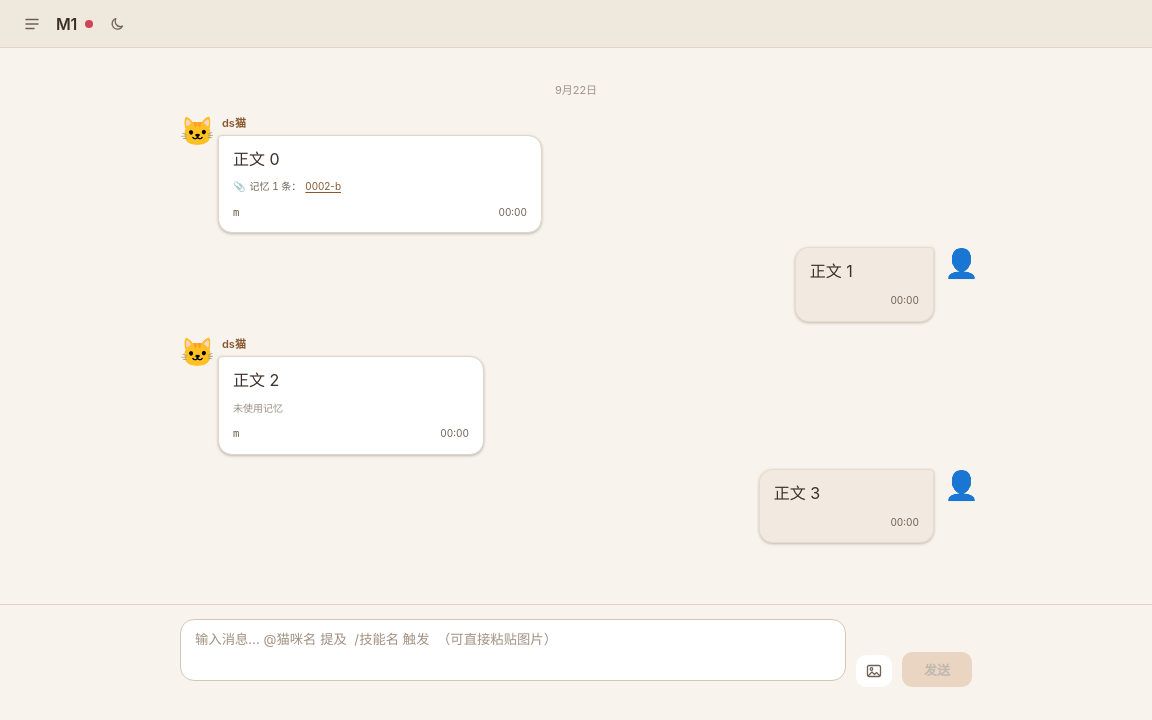
Test case: M1 记忆引用（回复下方「用了哪些记忆」） › 端到端（挂载级）：批量口返回的节 → 气泡 footer 出「📎 记忆 1 条」；点开 → 抽屉显示片段
Expected: the number of elements with class "msg-memory-refs" is 2, [233,178,341,194]; [233,402,283,414]
Expected: the element with class "msg-memory-refs" shows "记忆 1 条", [250,180,301,192]
// 点条目 → 抽屉（片段来自批量口，不再发请求）
Click the button with class "mem-link" at (323, 186), box [305,178,341,194]
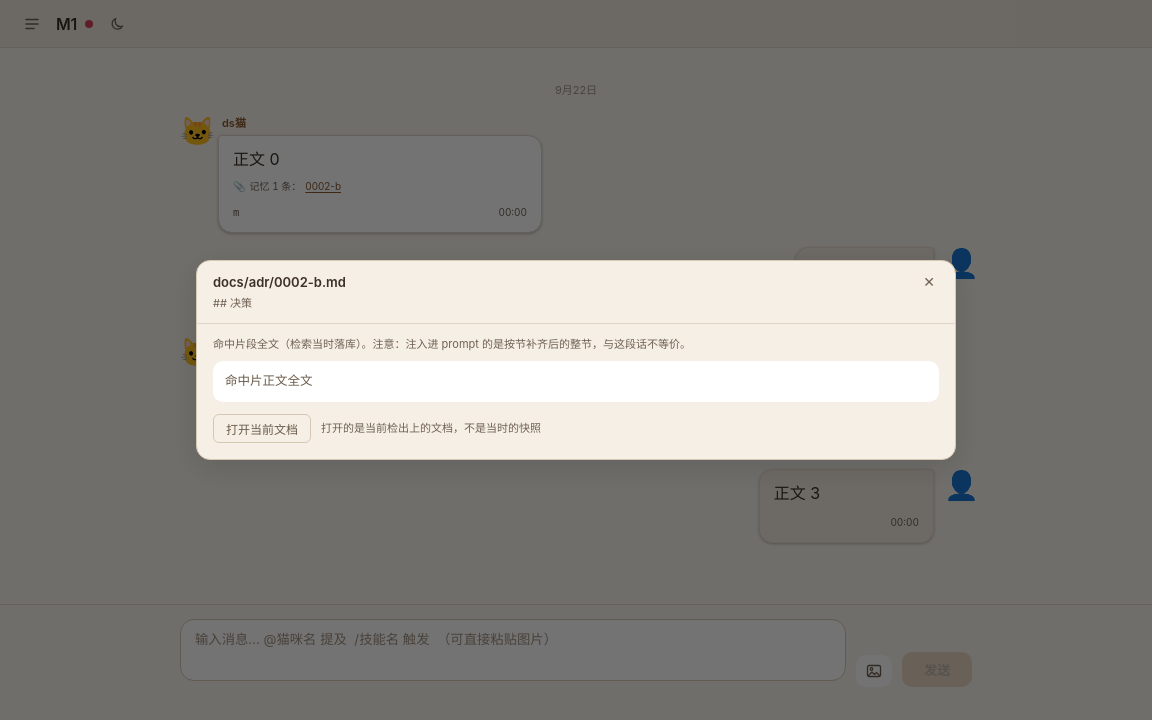
Now the element with class "memory-drawer" is shown, box [196,260,956,460]
Now the element with class "memory-drawer" shows "命中片正文全文", box [225,373,312,388]
Now the text with class "memory-drawer-caption" shows "整节", box [213,337,691,351]
// 次级链接 → 才发第二次请求（且只打 /memory/doc）
Click the button with class "memory-drawer-open" at (262, 428), box [213,414,311,443]
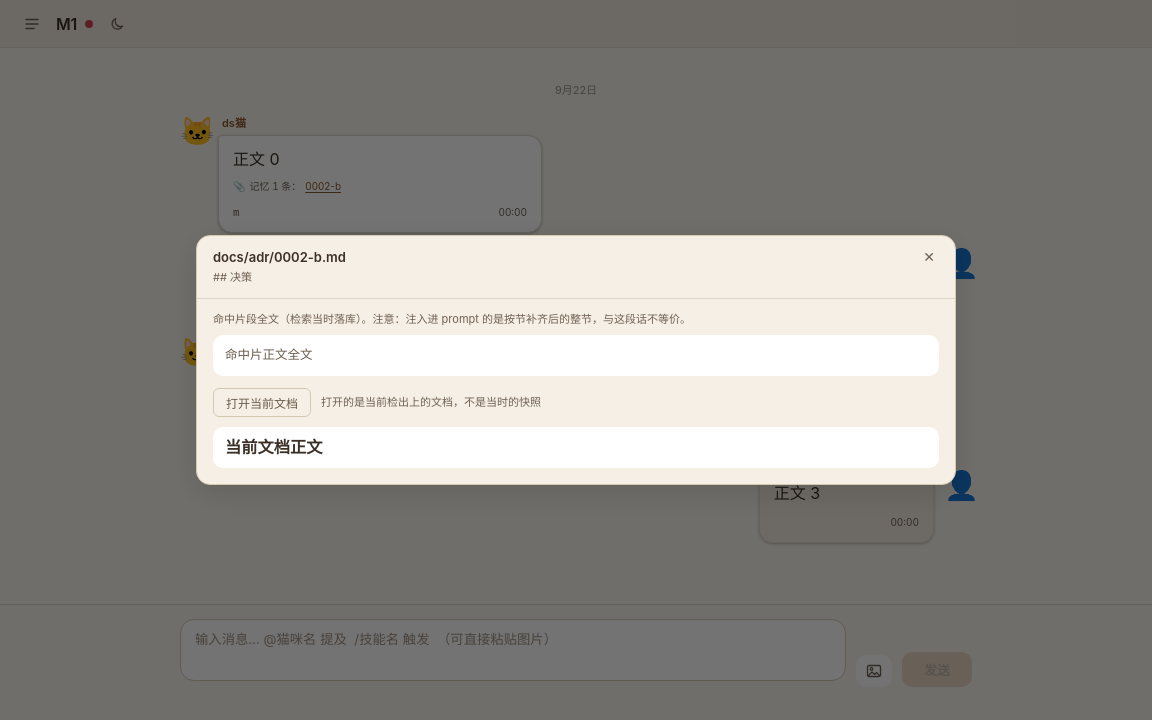
Now the element with class "memory-drawer-doc" reads "当前文档正文", box [225,437,322,457]
